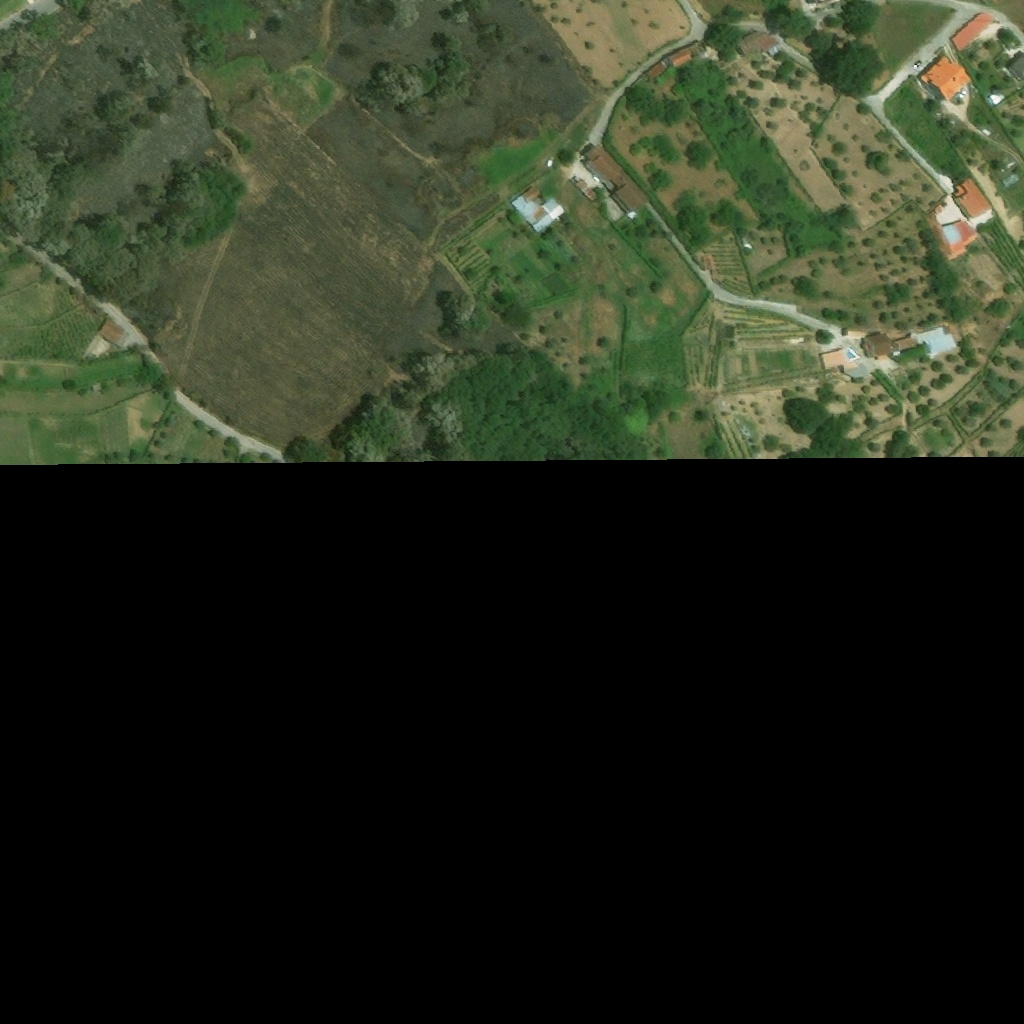0 no-damage: (580, 143, 649, 214), (861, 325, 956, 360), (919, 53, 970, 100), (956, 176, 992, 217), (525, 198, 565, 233), (924, 213, 953, 260), (734, 28, 779, 57), (98, 317, 130, 347), (949, 25, 977, 51), (942, 223, 966, 253), (819, 348, 848, 369), (668, 47, 693, 67), (643, 61, 666, 81), (955, 218, 974, 241), (521, 187, 540, 203), (1001, 173, 1020, 188), (700, 254, 713, 271), (989, 93, 1005, 105), (847, 328, 866, 336), (628, 211, 636, 219), (742, 237, 749, 244), (745, 244, 751, 248)
4 un-classified: (777, 126, 805, 154), (806, 0, 840, 10), (1010, 54, 1023, 77), (981, 0, 1003, 5)
